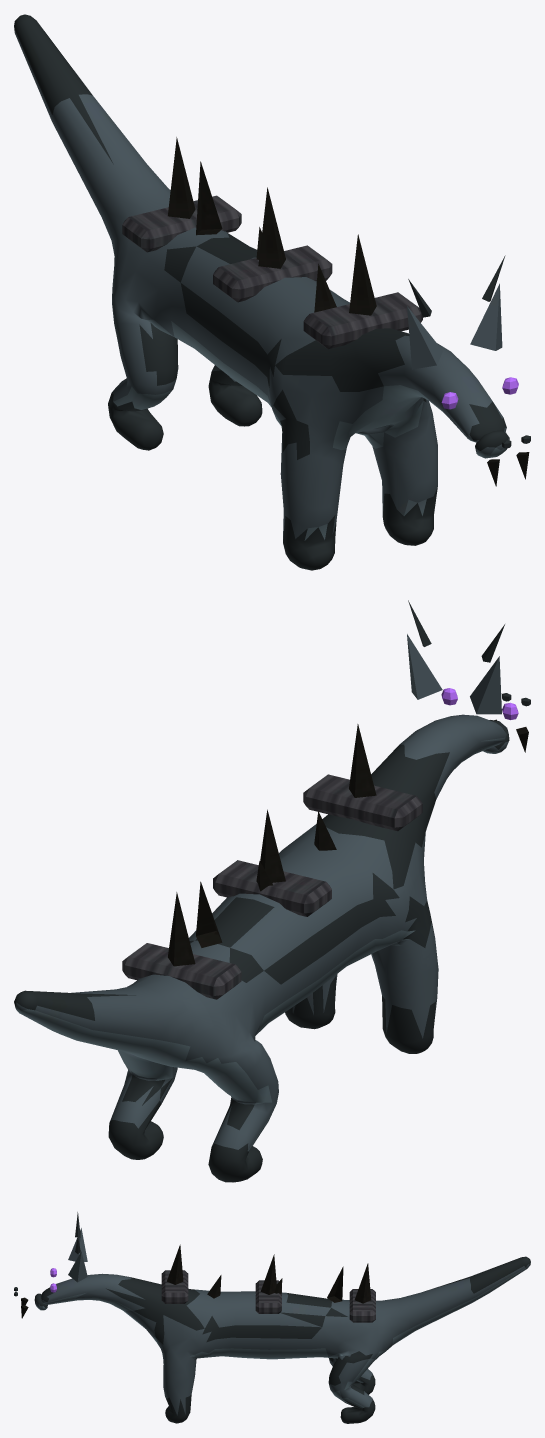
The model's file is boss_12.glb.
The picture shows the model from 3 angles, top to bottom: view 1: azimuth 30°, elevation 25°; view 2: azimuth 150°, elevation 25°; view 3: azimuth 270°, elevation 25°; orthographic projection. The views are drawn at different scales.
Parts seen in each view (by area): view 1: boss_12; view 2: boss_12; view 3: boss_12.
Boxes of the visible parts, x1=… form: boss_12: x1=14, y1=14, x2=530, y2=570; boss_12: x1=14, y1=600, x2=530, y2=1182; boss_12: x1=14, y1=1212, x2=530, y2=1423.
Bounding box in the file's own units: 1.02 × 2.38 × 5.96.
Materials: 6 (5 with a texture image).
